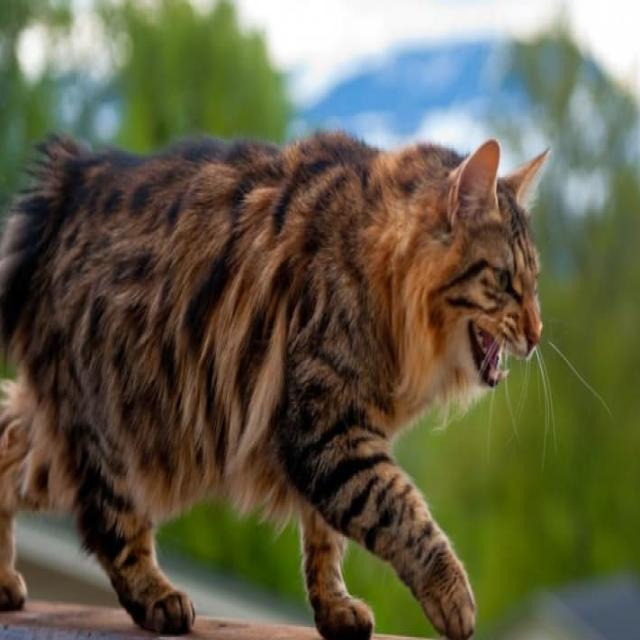American Bobtail: (0, 123, 554, 639)
